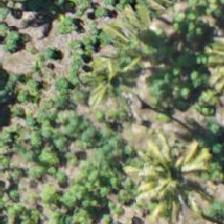coconut_tree: (66, 45, 156, 135), (126, 135, 216, 223)
